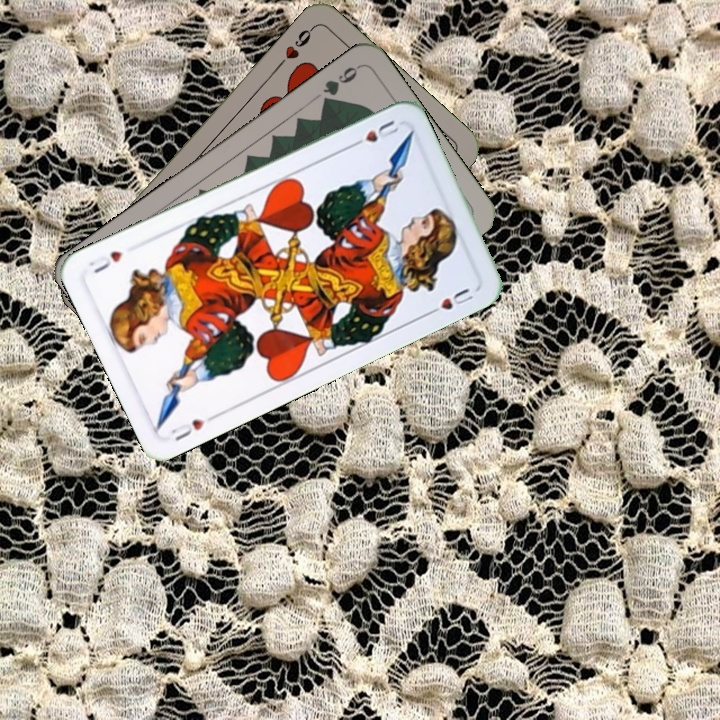G9: (318, 61, 363, 109)
H9: (273, 22, 317, 70)
HU: (346, 116, 403, 151), (167, 415, 208, 444)
